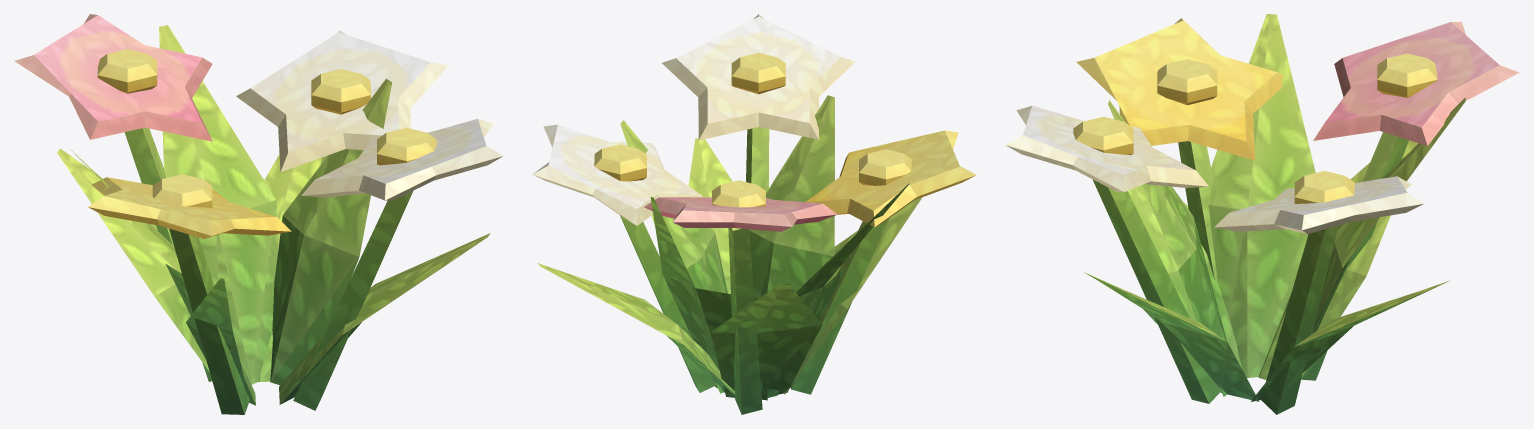
The model's file is ground_cover_in.glb.
The picture shows the model from 3 angles, left to right: view 1: azimuth 30°, elevation 25°; view 2: azimuth 150°, elevation 25°; view 3: azimuth 270°, elevation 25°; orthographic projection. The views are drawn at different scales.
Visible parts, largest first — view 1: foliage_v3; view 2: foliage_v3; view 3: foliage_v3.
Part boxes in pixels (x1,y1,x2,y2): foliage_v3: (14, 14, 503, 414); foliage_v3: (532, 14, 976, 414); foliage_v3: (1005, 14, 1519, 414).
Size of the model in its own units: 4.8 by 3.32 by 5.03.
Materials: 1 (1 with a texture image).
